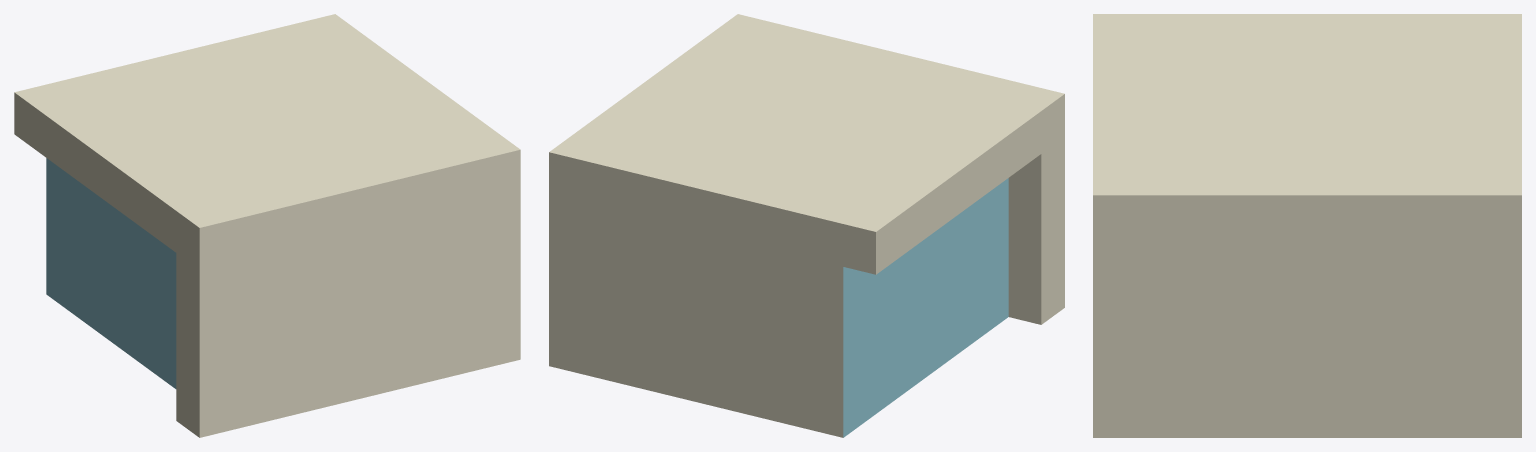
File: modularBuildings_058.fbx
3 renders of one model, left to right at view 1: azimuth 30°, elevation 25°; view 2: azimuth 150°, elevation 25°; view 3: azimuth 270°, elevation 25°, orthographic. The views are drawn at different scales.
Parts seen in each view (by area): view 1: Brick, Mesh1 Group1 Model; view 2: Brick, Mesh1 Group1 Model; view 3: Brick.
Boxes of the visible parts, x1,y1,x2,y2 form: Brick: (14, 14, 520, 437); Mesh1 Group1 Model: (46, 158, 176, 388); Brick: (549, 14, 1064, 437); Mesh1 Group1 Model: (843, 178, 1008, 437); Brick: (1093, 14, 1521, 437).
Size of the model in its own units: 1 by 0.625 by 1.
